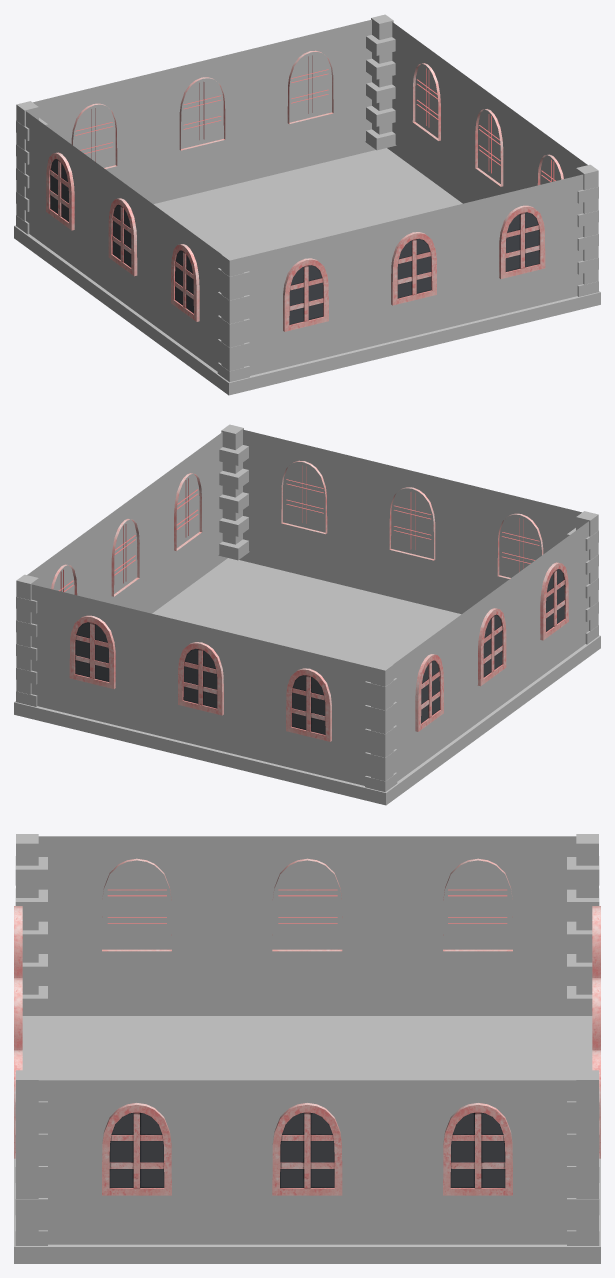
The model's file is sb_obj_outdoor024_PrincessCastle01_wall03.fbx.
3 renders of one model, top to bottom at view 1: azimuth 30°, elevation 25°; view 2: azimuth 150°, elevation 25°; view 3: azimuth 270°, elevation 25°, orthographic. The views are drawn at different scales.
Parts seen in each view (by area): view 1: sb_obj_outdoor024_PrincessCastle01_wall03; view 2: sb_obj_outdoor024_PrincessCastle01_wall03; view 3: sb_obj_outdoor024_PrincessCastle01_wall03.
Boxes of the visible parts, x1,y1,x2,y2 form: sb_obj_outdoor024_PrincessCastle01_wall03: [14, 14, 600, 395]; sb_obj_outdoor024_PrincessCastle01_wall03: [14, 424, 600, 805]; sb_obj_outdoor024_PrincessCastle01_wall03: [14, 834, 600, 1263].
Bounding box in the file's own units: 8.82 × 3.03 × 8.82.
